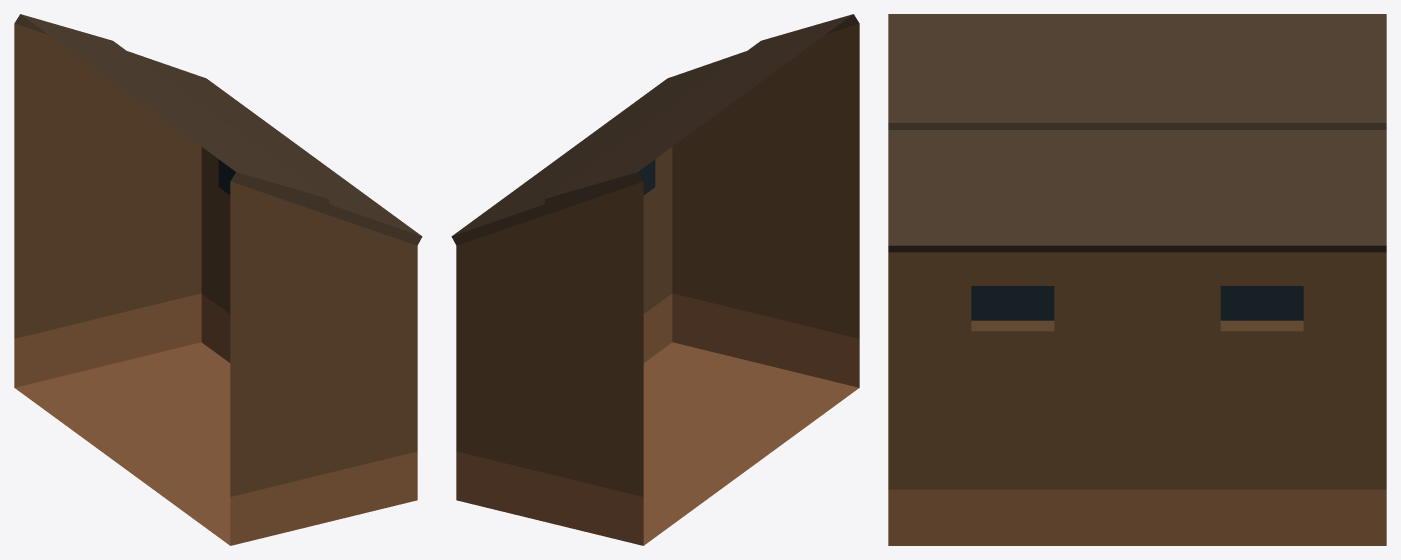
File: scheriff-jail-western.glb
The picture shows the model from 3 angles, left to right: view 1: azimuth 30°, elevation 25°; view 2: azimuth 150°, elevation 25°; view 3: azimuth 270°, elevation 25°; orthographic projection. The views are drawn at different scales.
Visible parts, largest first — view 1: scheriff-jail-western; view 2: scheriff-jail-western; view 3: scheriff-jail-western.
Part boxes in pixels (<box>): scheriff-jail-western: <box>14,14,422,545</box>; scheriff-jail-western: <box>451,14,859,545</box>; scheriff-jail-western: <box>888,14,1386,545</box>.
Bounding box in the file's own units: 2.05 × 3.81 × 4.
Materials: 1 (1 with a texture image).
